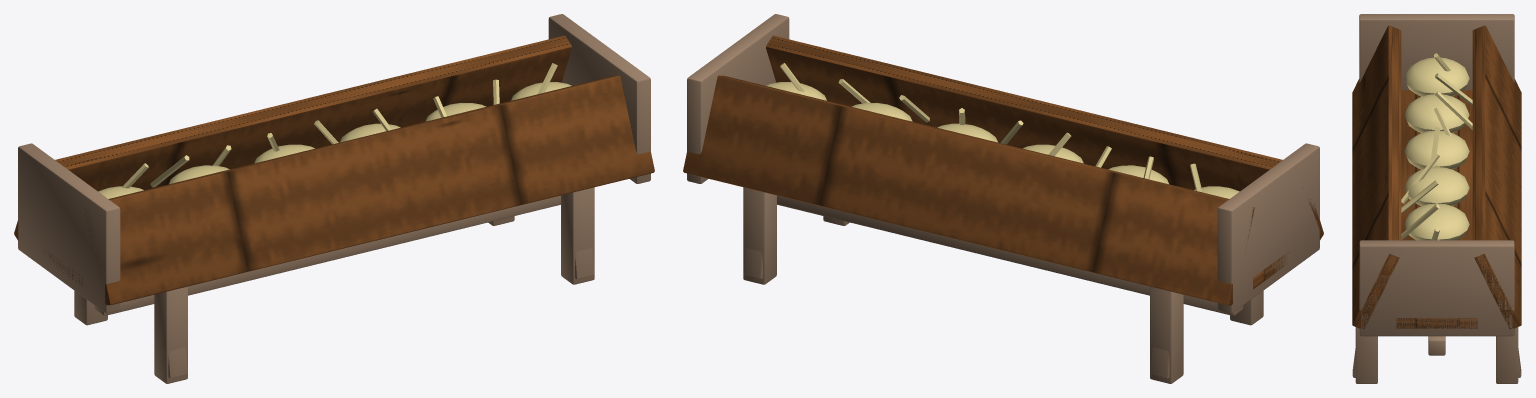
The model's file is th38_futtertrog.glb.
3 renders of one model, left to right at view 1: azimuth 30°, elevation 25°; view 2: azimuth 150°, elevation 25°; view 3: azimuth 270°, elevation 25°, orthographic. The views are drawn at different scales.
Parts seen in each view (by area): view 1: Cube, Cube.001, Cube.003, Cube.004, Cube.013, Cube.006, Cube.010, Cube.008, Cube.005, Cube.009; view 2: Cube.001, Cube, Cube.003, Cube.004, Cube.013, Cube.008, Cube.012, Cube.006, Cube.007, Cube.011; view 3: Cube.004, Cube, Cube.001, Cube.003, Cube.002, Sphere.002, Sphere, Sphere.003, Sphere.004, Sphere.001, Cube.010, Cube.012 (+8 smaller).
Part boxes in pixels (<box>): Cube: <box>83,75,654,305</box>; Cube.001: <box>14,35,571,240</box>; Cube.003: <box>18,143,120,313</box>; Cube.004: <box>548,14,650,183</box>; Cube.013: <box>94,195,560,315</box>; Cube.006: <box>154,286,187,383</box>; Cube.010: <box>561,187,594,284</box>; Cube.008: <box>74,291,107,325</box>; Cube.005: <box>168,347,187,378</box>; Cube.009: <box>575,248,594,279</box>; Cube.001: <box>683,75,1254,305</box>; Cube: <box>766,35,1323,240</box>; Cube.003: <box>1217,143,1319,313</box>; Cube.004: <box>687,14,789,183</box>; Cube.013: <box>777,195,1243,315</box>; Cube.008: <box>1150,286,1183,383</box>; Cube.012: <box>743,187,776,284</box>; Cube.006: <box>1230,291,1263,325</box>; Cube.007: <box>1150,347,1169,378</box>; Cube.011: <box>743,248,762,279</box>; Cube.004: <box>1359,240,1514,336</box>; Cube: <box>1352,25,1401,328</box>; Cube.001: <box>1472,25,1521,329</box>; Cube.003: <box>1359,14,1514,89</box>; Cube.002: <box>1396,90,1477,328</box>; Sphere.002: <box>1404,130,1469,169</box>; Sphere: <box>1404,57,1469,96</box>; Sphere.003: <box>1404,167,1469,205</box>; Sphere.004: <box>1404,203,1469,240</box>; Sphere.001: <box>1404,94,1469,132</box>; Cube.010: <box>1355,327,1377,383</box>; Cube.012: <box>1496,327,1518,383</box>.
Bounding box in the file's own units: 2.2 × 0.72 × 0.6762.
Materials: 3 (1 with a texture image).
